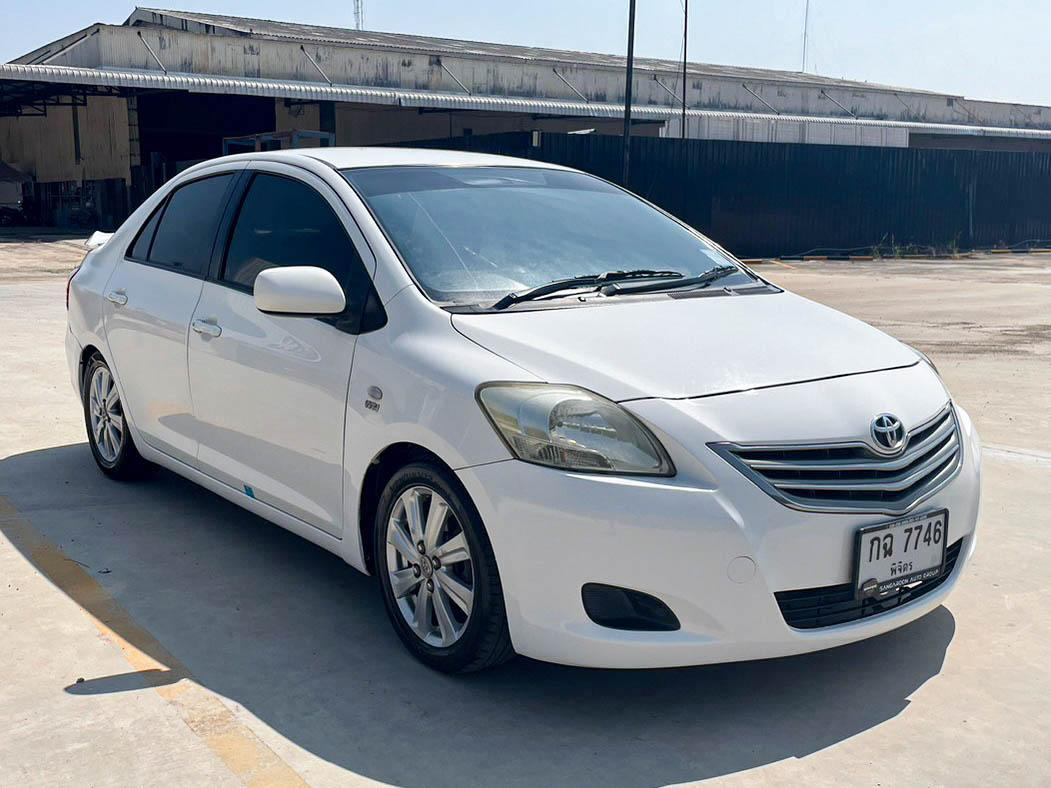license-plate: (846, 511, 953, 601)
